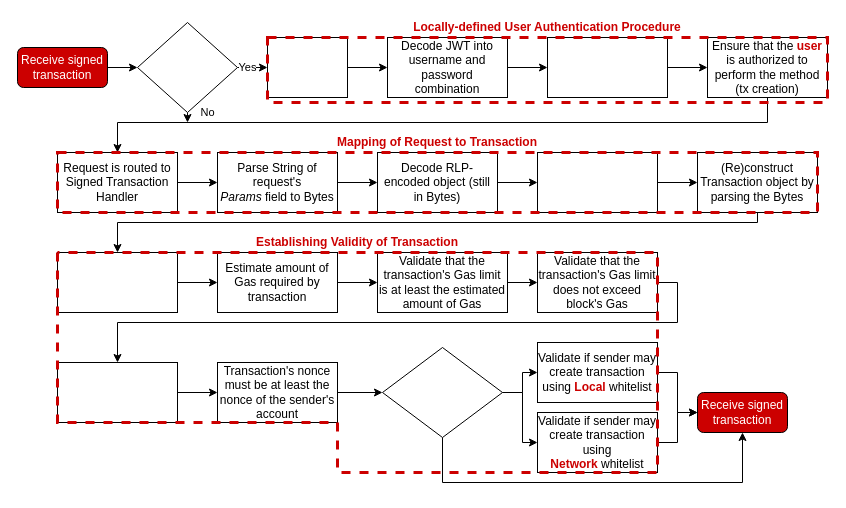
Image size: 846x508. Some labels were removed from this diagram. Each missing label, with the box of its shape:
Account - based permissioning enabled?: (382, 346, 502, 438)
Authentication enabled?: (136, 22, 238, 112)
Determine Transaction's format based on EIP-version: (536, 152, 658, 212)
Parse JSON Web Token from request: (266, 36, 348, 98)
Parse requested JSON-RPC method (eth_sendRawTx): (546, 36, 668, 98)
Validate sender's account has sufficient Gas (crypto) based on Gas Price: (56, 362, 178, 422)
Validate transaction's signature to be valid: (56, 252, 178, 312)
